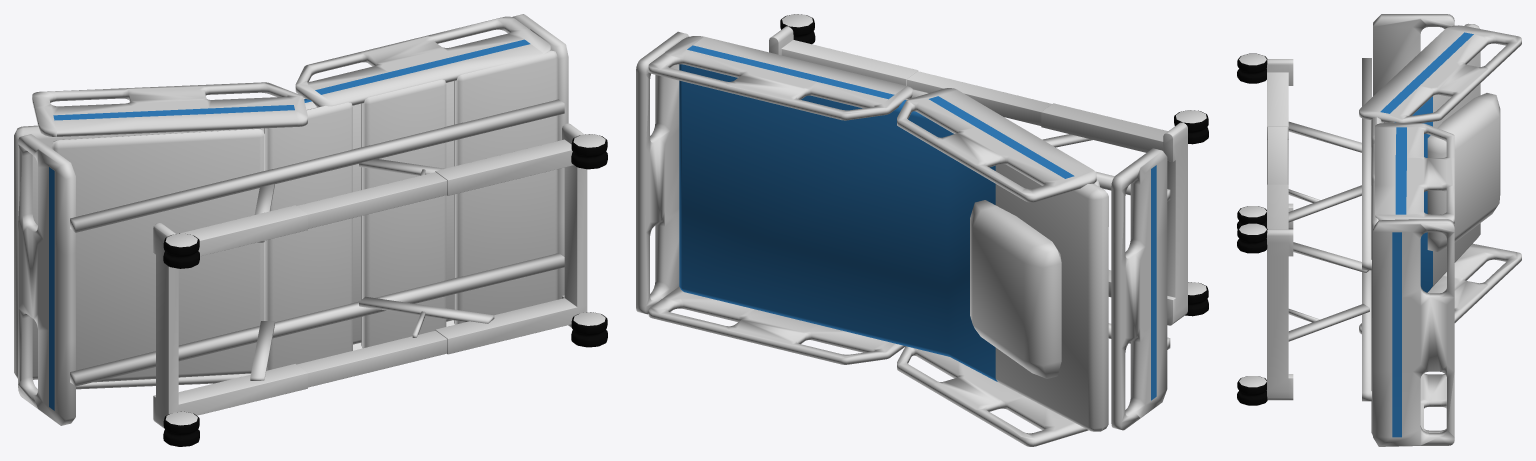
The picture shows the model from 3 angles, left to right: view 1: azimuth 30°, elevation 25°; view 2: azimuth 150°, elevation 25°; view 3: azimuth 270°, elevation 25°; orthographic projection. The views are drawn at different scales.
Parts seen in each view (by area): view 1: Cube; view 2: Cube; view 3: Cube.
Boxes of the visible parts, <box> form: Cube: <box>14,14,607,446</box>; Cube: <box>636,14,1208,446</box>; Cube: <box>1237,14,1521,446</box>.
Bounding box in the file's own units: 204 × 101 × 117.
